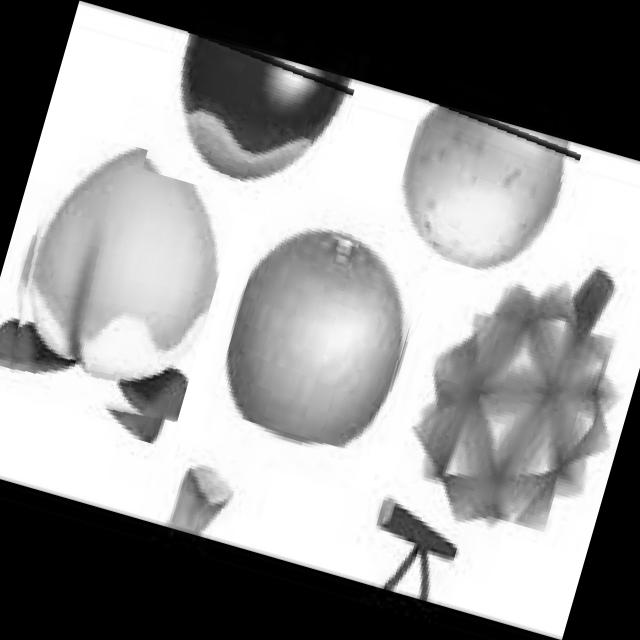Organic: (0, 124, 246, 437), (209, 190, 436, 457), (142, 24, 358, 219), (383, 93, 585, 288)
